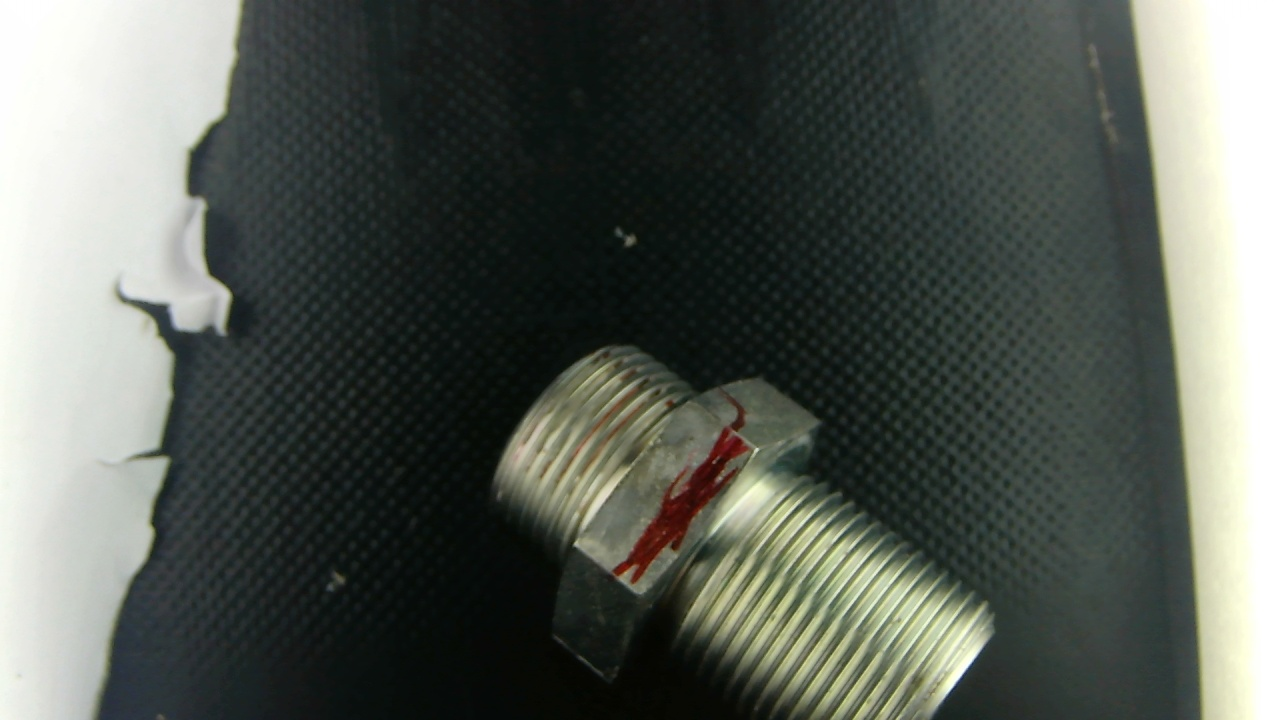blackpatch: (562, 369, 738, 559)
